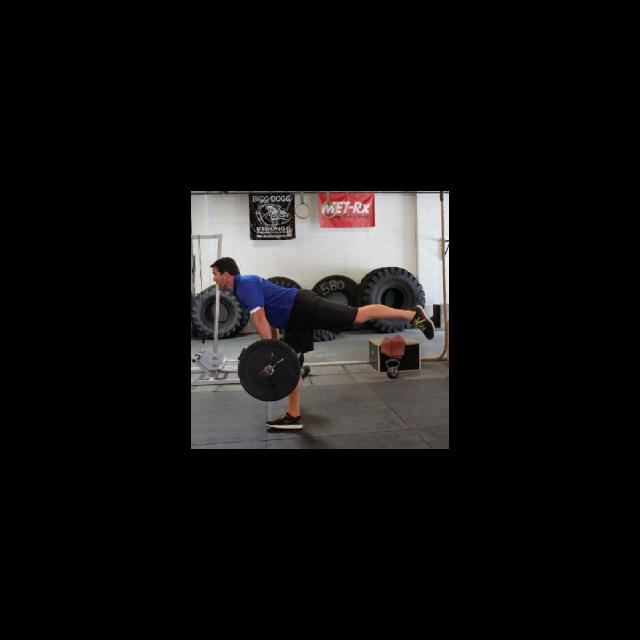barbell: (234, 336, 304, 403)
